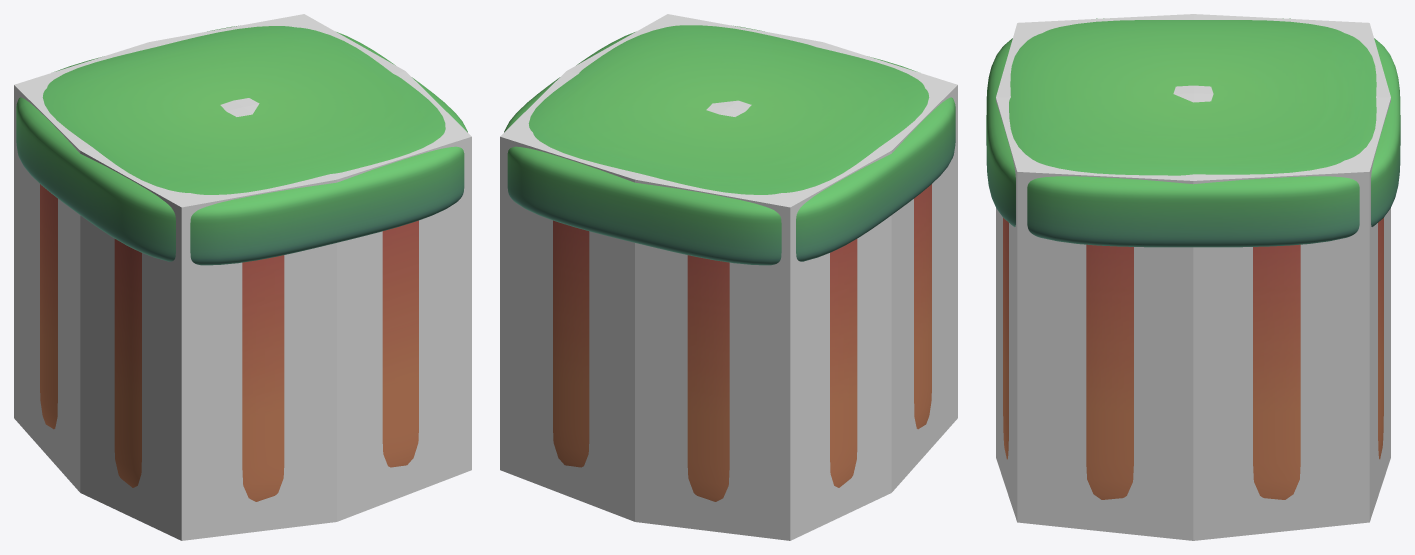
The model's file is PlatformBigMedium.glb.
3 renders of one model, left to right at view 1: azimuth 30°, elevation 25°; view 2: azimuth 150°, elevation 25°; view 3: azimuth 270°, elevation 25°, orthographic. The views are drawn at different scales.
Parts seen in each view (by area): view 1: colision-colonly.019, PlatformBigMedium; view 2: colision-colonly.019, PlatformBigMedium; view 3: PlatformBigMedium, colision-colonly.019.
Part boxes in pixels (box(x1,y1,x2,y2)): colision-colonly.019: box(14, 14, 471, 540); PlatformBigMedium: box(16, 25, 467, 501); colision-colonly.019: box(500, 14, 957, 540); PlatformBigMedium: box(504, 25, 955, 501); PlatformBigMedium: box(986, 18, 1400, 499); colision-colonly.019: box(996, 14, 1390, 540).
Size of the model in its own units: 4 by 3.88 by 4.
Materials: 1 (1 with a texture image).
